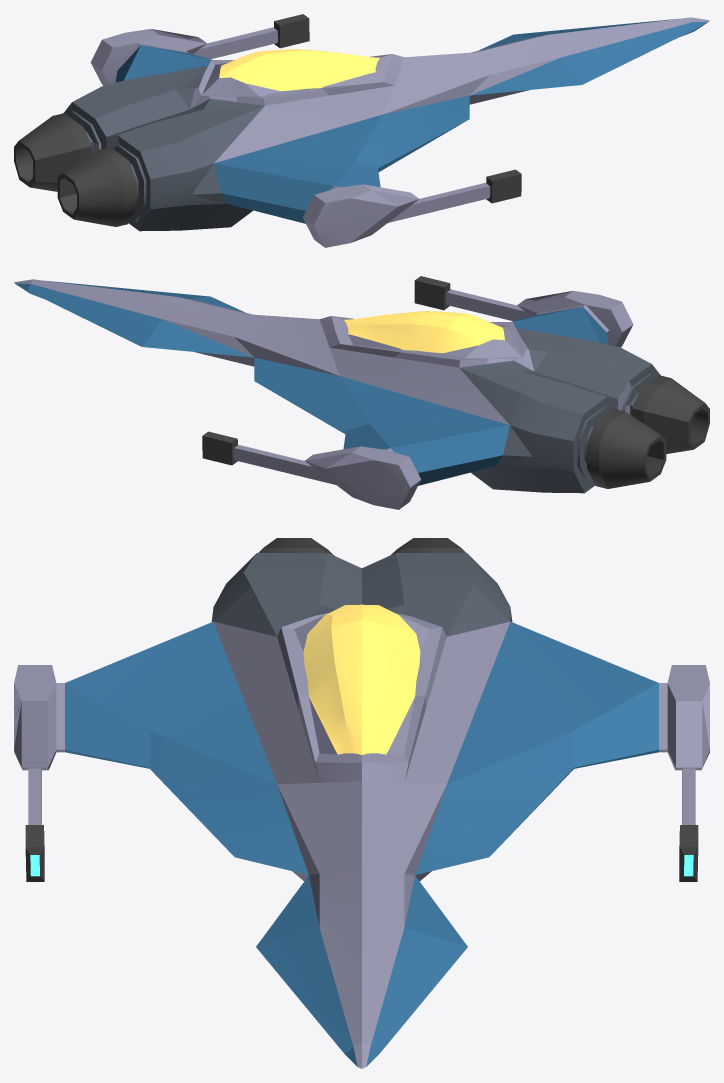
The model's file is Azure-Arrow-V2-ship-v01.glb.
3 views of the same model, one above another, from view 1: azimuth 30°, elevation 25°; view 2: azimuth 150°, elevation 25°; view 3: azimuth 270°, elevation 25° (orthographic). The views are drawn at different scales.
Parts seen in each view (by area): view 1: Ship; view 2: Ship; view 3: Ship.
Part boxes in pixels (<box>): Ship: <box>14,14,709,247</box>; Ship: <box>14,276,709,509</box>; Ship: <box>14,538,709,1068</box>.
Size of the model in its own units: 27.8 by 4.96 by 16.4.
